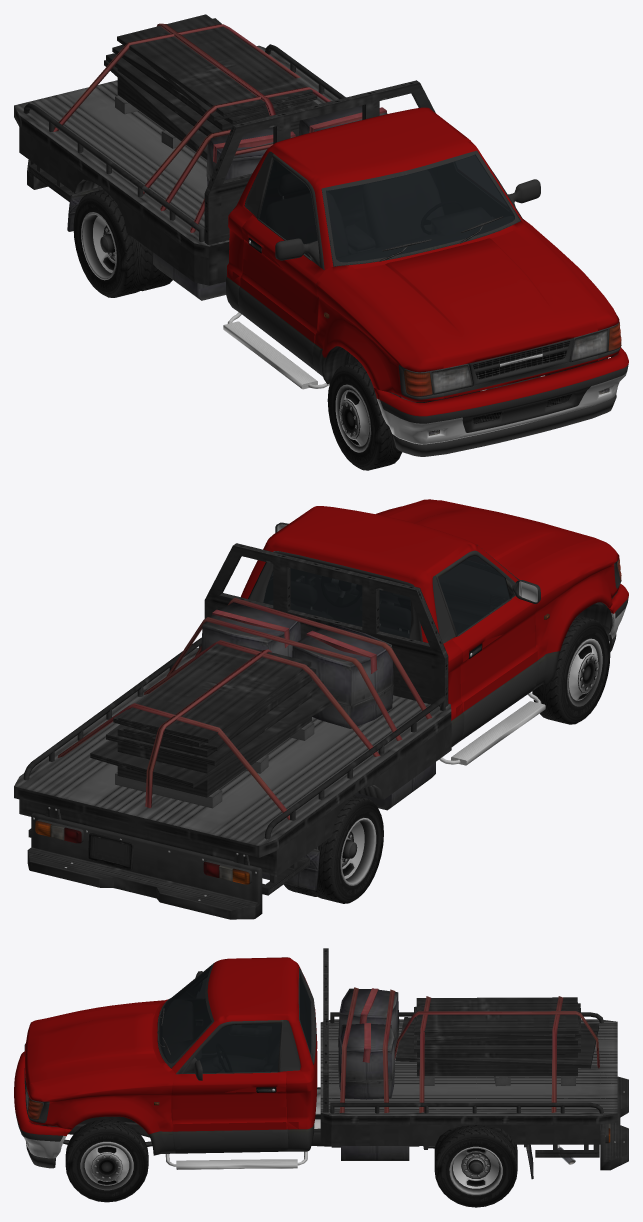
Rendered from veicolo_epoca_cassone.glb.
3 views of the same model, one above another, from view 1: azimuth 30°, elevation 25°; view 2: azimuth 150°, elevation 25°; view 3: azimuth 270°, elevation 25° (orthographic). The views are drawn at different scales.
Visible parts, largest first — view 1: sb_modello; view 2: sb_modello; view 3: sb_modello.
Part boxes in pixels (bbox=[...]): sb_modello: bbox=[14, 14, 628, 470]; sb_modello: bbox=[14, 499, 628, 919]; sb_modello: bbox=[14, 948, 628, 1207].
Size of the model in its own units: 2 by 1.68 by 5.27.
Materials: 6 (5 with a texture image).
